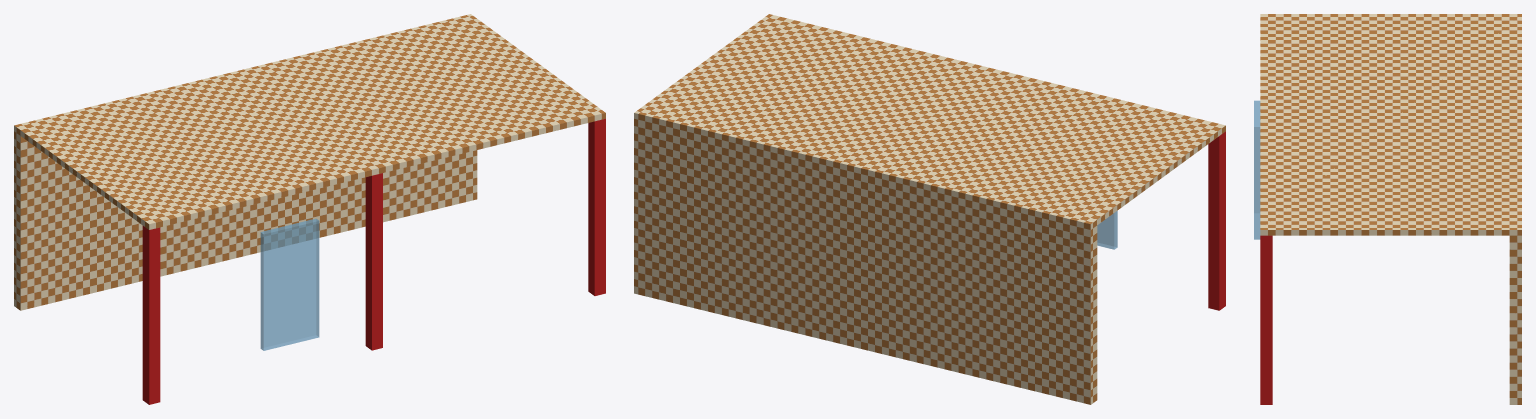
3 renders of one model, left to right at view 1: azimuth 30°, elevation 25°; view 2: azimuth 150°, elevation 25°; view 3: azimuth 270°, elevation 25°, orthographic. The views are drawn at different scales.
Visible parts, largest first — view 1: San lau 1, Tuong truc C, Cot C1 (×3), Kinh; view 2: Tuong truc C, San lau 1, Cot C1, Kinh; view 3: San lau 1, Cot C1, Tuong truc C, Kinh.
Boxes of the visible parts, x1,y1,x2,y2 form: San lau 1: [14, 14, 605, 229]; Tuong truc C: [14, 131, 477, 310]; Cot C1 (×3): [142, 118, 605, 404]; Kinh: [260, 218, 319, 350]; Tuong truc C: [634, 118, 1097, 404]; San lau 1: [634, 14, 1225, 229]; Cot C1: [1208, 131, 1225, 310]; Kinh: [1097, 211, 1117, 249]; San lau 1: [1260, 14, 1521, 235]; Cot C1: [1260, 235, 1272, 404]; Tuong truc C: [1509, 235, 1521, 404]; Kinh: [1254, 100, 1260, 239].
Bounding box in the file's own units: 8.2 × 3.1 × 4.3.
3 materials, 1 textured.
